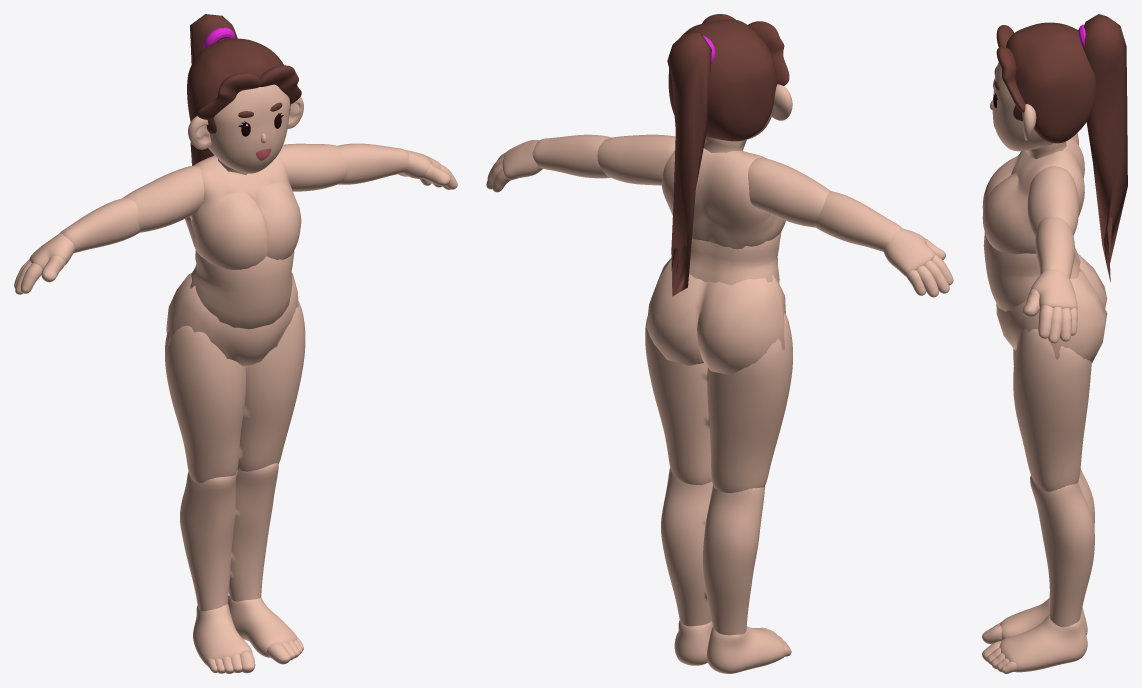
Rendered from female_model7.glb.
3 views of the same model, side by side, from view 1: azimuth 30°, elevation 25°; view 2: azimuth 150°, elevation 25°; view 3: azimuth 270°, elevation 25° (orthographic). The views are drawn at different scales.
Parts seen in each view (by area): view 1: leg.005, chest 1.005, arm.005, foot.005, arm 2.005, head.006, pelvis.005, Icosphere.011, hand.005, Cube.024, Icosphere.012, ears.006; view 2: leg.005, pelvis.005, chest 1.005, Icosphere.011, Icosphere.012, arm.005, arm 2.005, hand.005, foot.005, Cube.024; view 3: leg.005, chest 1.005, Icosphere.011, Icosphere.012, foot.005, pelvis.005, hand.005, arm.005, arm 2.005, head.006, Cube.024, ears.006 (+1 smaller).
Part boxes in pixels (bbox=[...]): leg.005: bbox=[165, 301, 305, 611]; chest 1.005: bbox=[185, 155, 301, 329]; arm.005: bbox=[123, 143, 347, 232]; foot.005: bbox=[193, 595, 303, 673]; arm 2.005: bbox=[59, 143, 408, 252]; head.006: bbox=[208, 84, 289, 173]; pelvis.005: bbox=[166, 272, 298, 367]; Icosphere.011: bbox=[187, 38, 290, 133]; hand.005: bbox=[14, 150, 457, 294]; Cube.024: bbox=[197, 65, 301, 119]; Icosphere.012: bbox=[190, 14, 237, 165]; ears.006: bbox=[188, 96, 303, 149]; leg.005: bbox=[645, 312, 792, 635]; pelvis.005: bbox=[646, 257, 785, 375]; chest 1.005: bbox=[661, 148, 785, 285]; Icosphere.011: bbox=[668, 19, 776, 141]; Icosphere.012: bbox=[667, 32, 711, 296]; arm.005: bbox=[597, 134, 830, 227]; arm 2.005: bbox=[532, 134, 901, 251]; hand.005: bbox=[486, 140, 953, 297]; foot.005: bbox=[674, 620, 791, 673]; Cube.024: bbox=[702, 14, 789, 85]; leg.005: bbox=[1013, 329, 1094, 627]; chest 1.005: bbox=[982, 138, 1084, 311]; Icosphere.011: bbox=[1006, 22, 1096, 143]; Icosphere.012: bbox=[1083, 14, 1127, 282]; foot.005: bbox=[982, 598, 1087, 673]; pelvis.005: bbox=[996, 254, 1107, 363]; hand.005: bbox=[1022, 270, 1077, 343]; arm.005: bbox=[1027, 133, 1078, 237]; arm 2.005: bbox=[1035, 216, 1074, 278]; head.006: bbox=[992, 62, 1053, 151]; Cube.024: bbox=[996, 25, 1025, 112]; ears.006: bbox=[1022, 104, 1036, 140].
Size of the model in its own units: 15.37 by 20.69 by 4.29.
